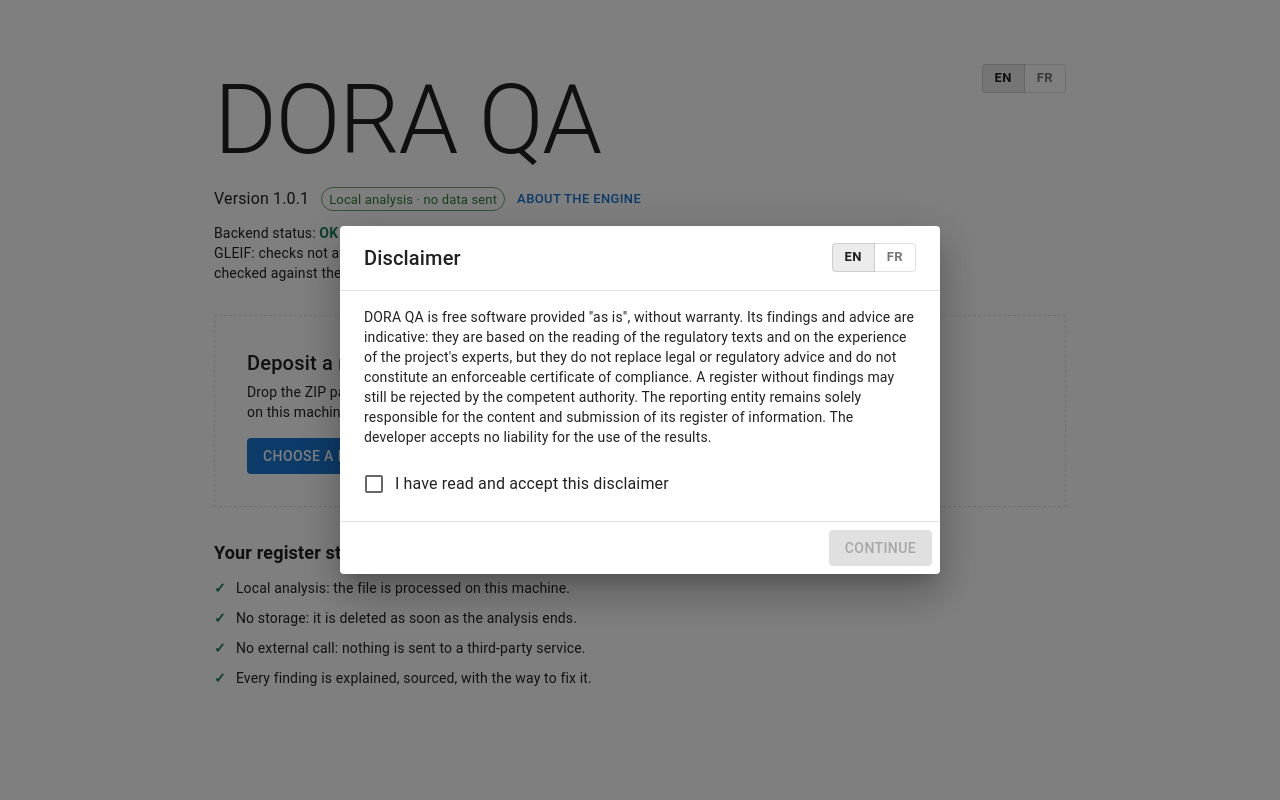
Test: Disclaimer › blocks the interface until the disclaimer is ticked and confirmed
Expected: the text "provided \"as is\", without warranty" is shown, x1=364 y1=309 x2=914 y2=445
Expected: the button "Continue" is disabled, x1=829 y1=530 x2=932 y2=566
Press Escape
Expected: the dialog "Disclaimer" is shown, x1=340 y1=226 x2=940 y2=574
Click the checkbox: (515, 484) x1=362 y1=472 x2=669 y2=496
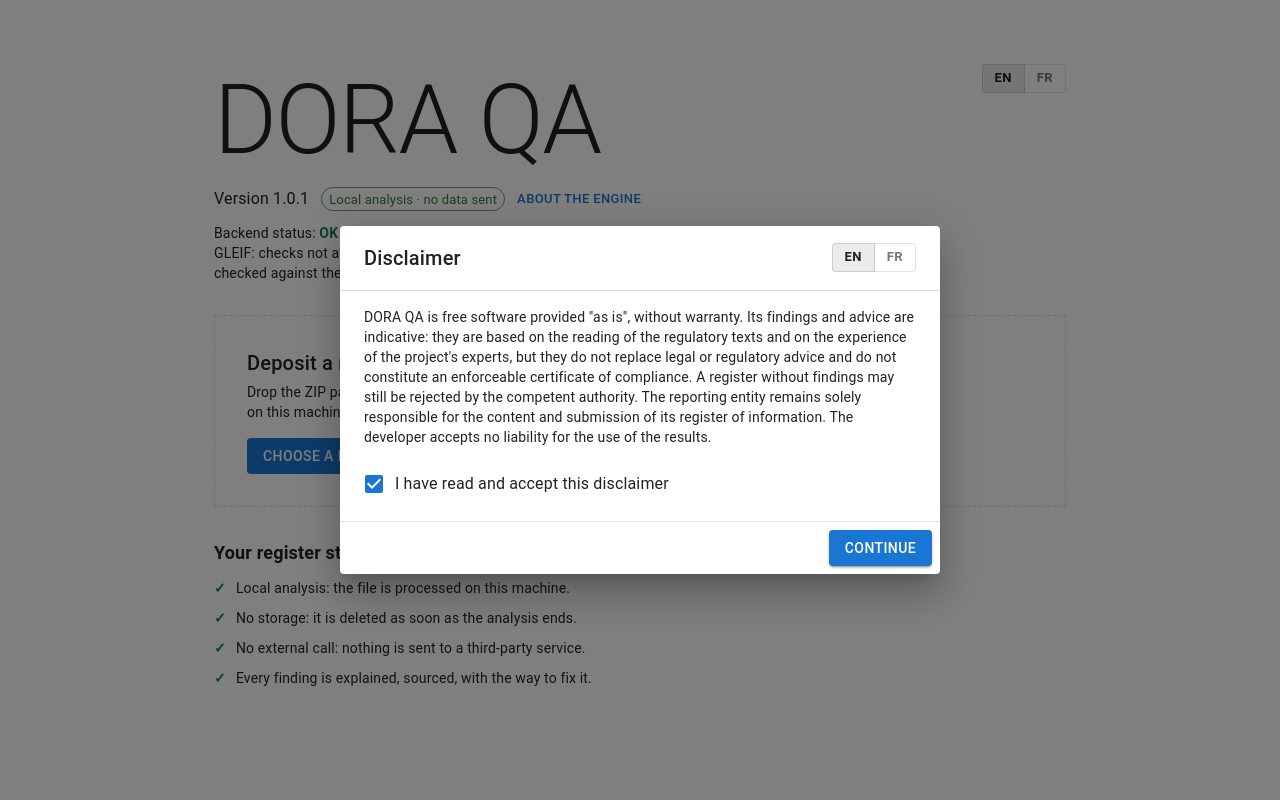
Click the button "Continue": (880, 548) x1=829 y1=530 x2=932 y2=566
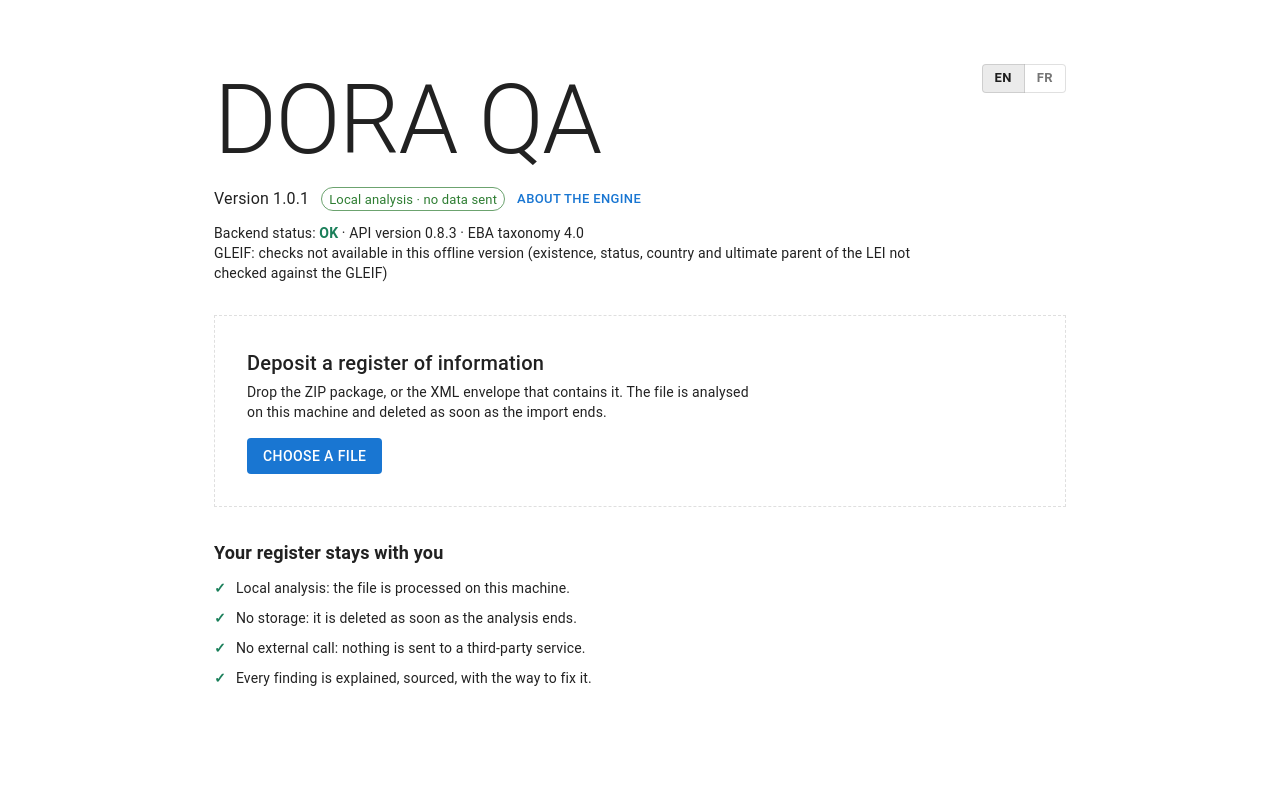
Expected: the heading "Your register stays with you" is shown, x1=214 y1=542 x2=443 y2=563
Now the dialog is gone
